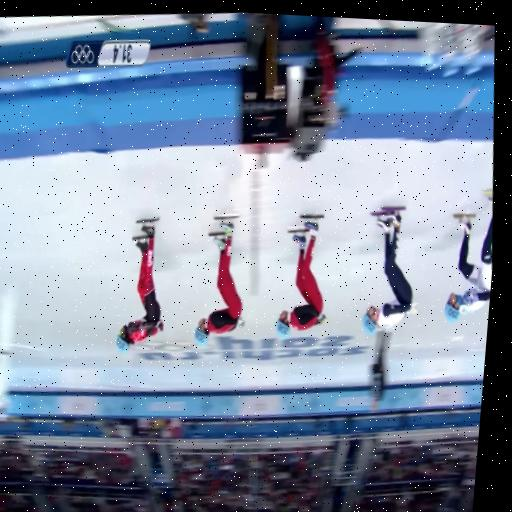Skater: (361, 208, 417, 334), (275, 214, 326, 338), (194, 216, 243, 345), (115, 219, 162, 352), (444, 214, 492, 321)
